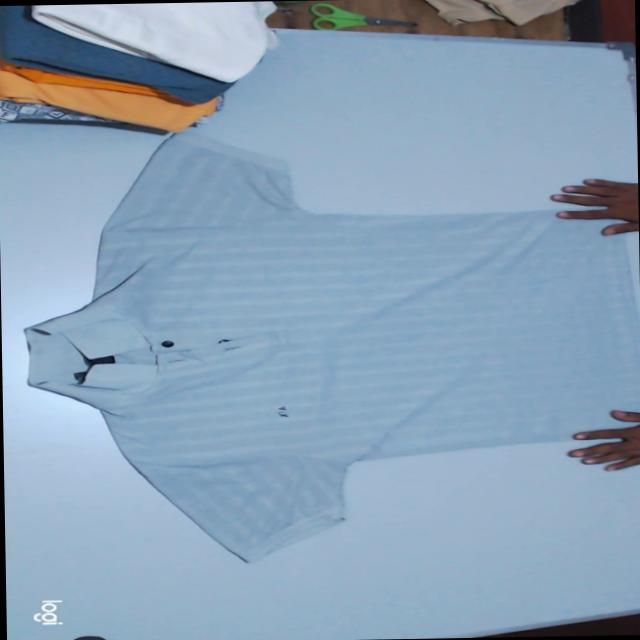new-garment: (25, 133, 640, 560)
